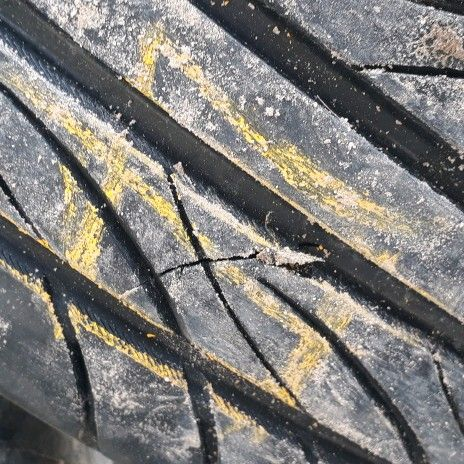tr: (156, 253, 312, 282)
